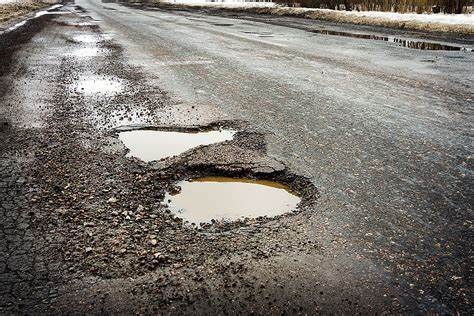Pothole: (151, 164, 318, 230), (105, 113, 248, 163)
